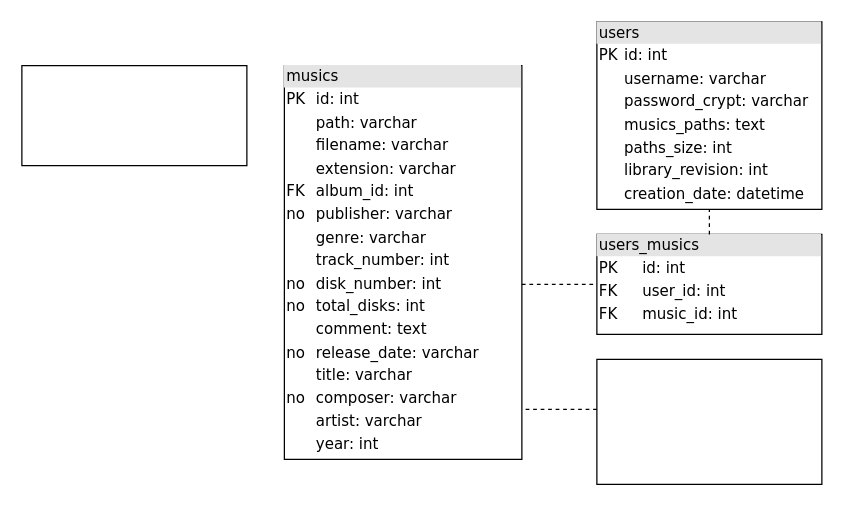
Some shapes in this 844 by 506 pixel diagram are drawn without their labels. Here are the shapes that lost their labels. From the top down, the box of each, then its label:
(21, 64, 247, 166): database_informations description: varchar creation_date: datetime
(596, 358, 822, 484): albums PK id: int name: varchar artist: varchar cover_image: blob
